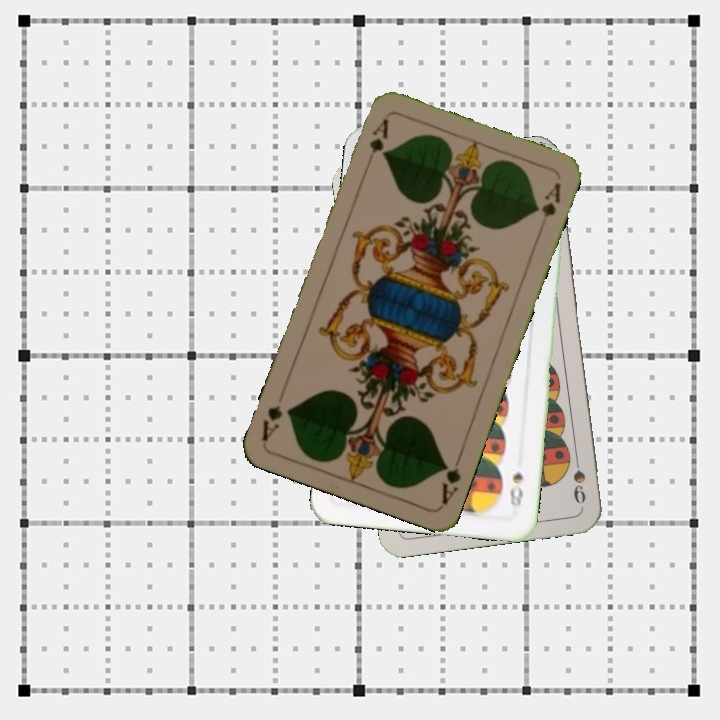GA: (437, 449, 465, 508), (361, 115, 391, 170)
S8: (505, 468, 526, 512)
S9: (569, 448, 589, 507)
